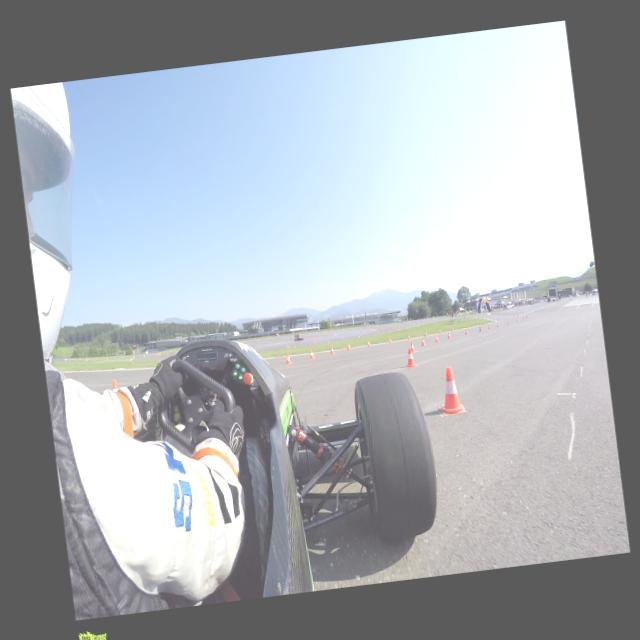orange_cone: (436, 366, 464, 415), (404, 347, 416, 368), (111, 380, 118, 392), (408, 341, 414, 352), (420, 336, 426, 346), (284, 353, 290, 363), (308, 349, 314, 358), (328, 346, 334, 354), (434, 334, 439, 342), (446, 331, 450, 338), (366, 340, 370, 346), (464, 328, 468, 334), (346, 343, 349, 350), (388, 337, 392, 342), (406, 334, 409, 340), (487, 324, 490, 329), (438, 329, 441, 333), (496, 322, 498, 327), (478, 326, 480, 331), (450, 326, 452, 331), (424, 332, 426, 336), (466, 325, 468, 327)
